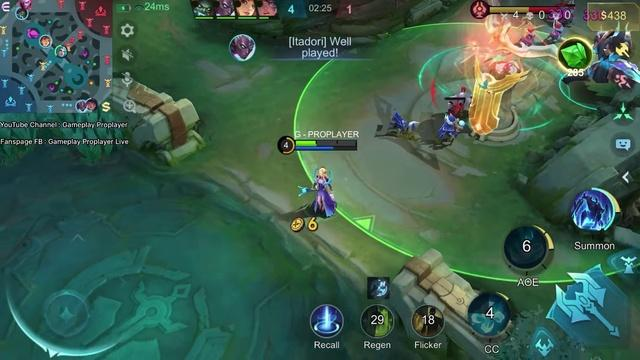Adc_Aliado: (75, 101, 90, 112)
Arbusto: (4, 115, 128, 165)
EXP_Lane: (0, 0, 14, 18)
Exp_Aliado: (12, 7, 29, 20)
Exp_Enemigo: (19, 0, 32, 12)
Gold_Lane: (100, 100, 115, 112)
Jungla_Aliado: (36, 35, 52, 48)
Mid_Aliado: (55, 44, 70, 58)
Minimapa: (0, 0, 112, 112)
Roamer_Aliado: (84, 97, 97, 112)
Skill3: (565, 188, 615, 235)
Torre_Enemiga: (464, 22, 538, 151)
Tortuga_mapa: (25, 26, 41, 38)
Vexana: (292, 163, 345, 219)
